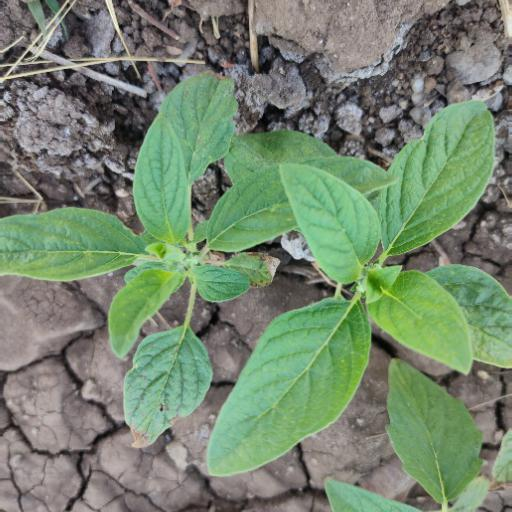crop: (7, 87, 317, 442), (245, 158, 512, 484)
